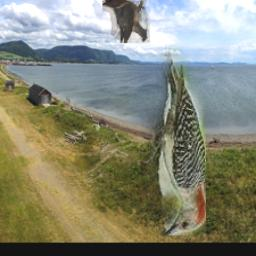Swallow: (102, 0, 150, 44)
Woodpecker: (140, 46, 206, 236)
